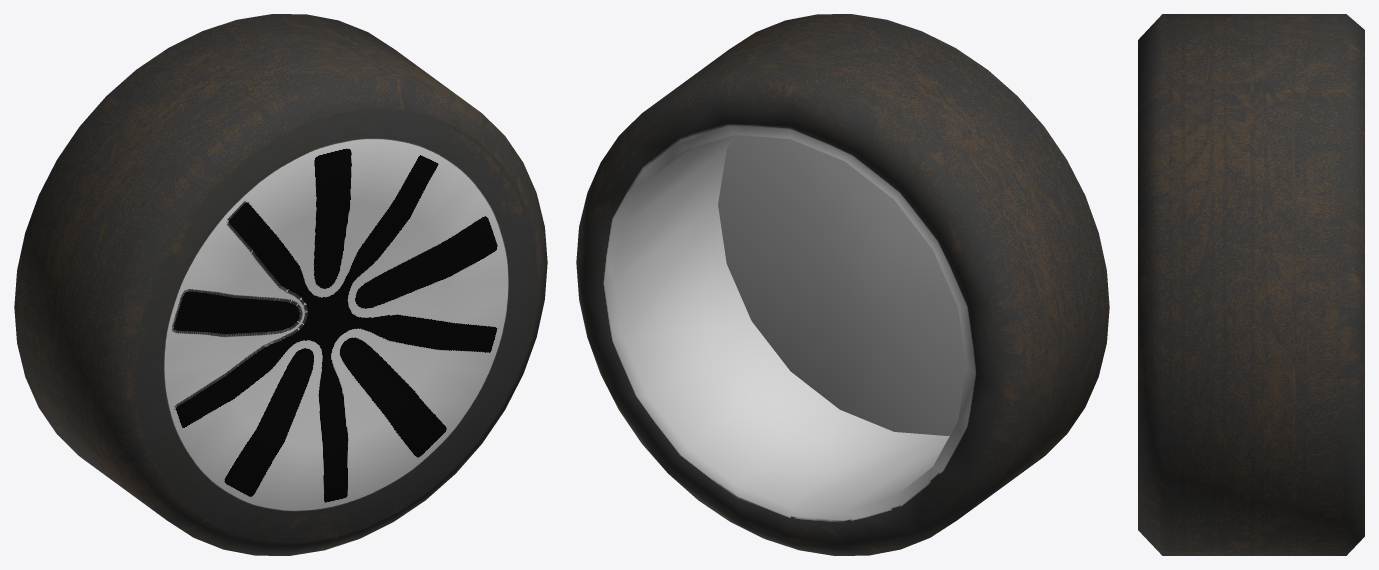
File: wheel_motion_blur.fbx
3 renders of one model, left to right at view 1: azimuth 30°, elevation 25°; view 2: azimuth 150°, elevation 25°; view 3: azimuth 270°, elevation 25°, orthographic. The views are drawn at different scales.
Parts seen in each view (by area): view 1: Wheel_motion_blur; view 2: Wheel_motion_blur; view 3: Wheel_motion_blur.
Part boxes in pixels (box(x1,y1,x2,y2)): Wheel_motion_blur: box(14, 14, 547, 555); Wheel_motion_blur: box(576, 14, 1109, 555); Wheel_motion_blur: box(1138, 14, 1364, 555).
Bounding box in the file's own units: 66.3 × 27.75 × 66.3.
